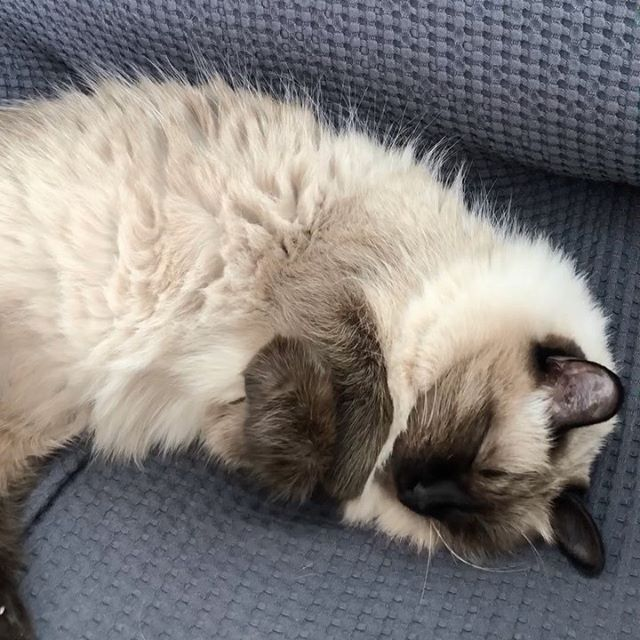cat: (368, 328, 630, 579)
